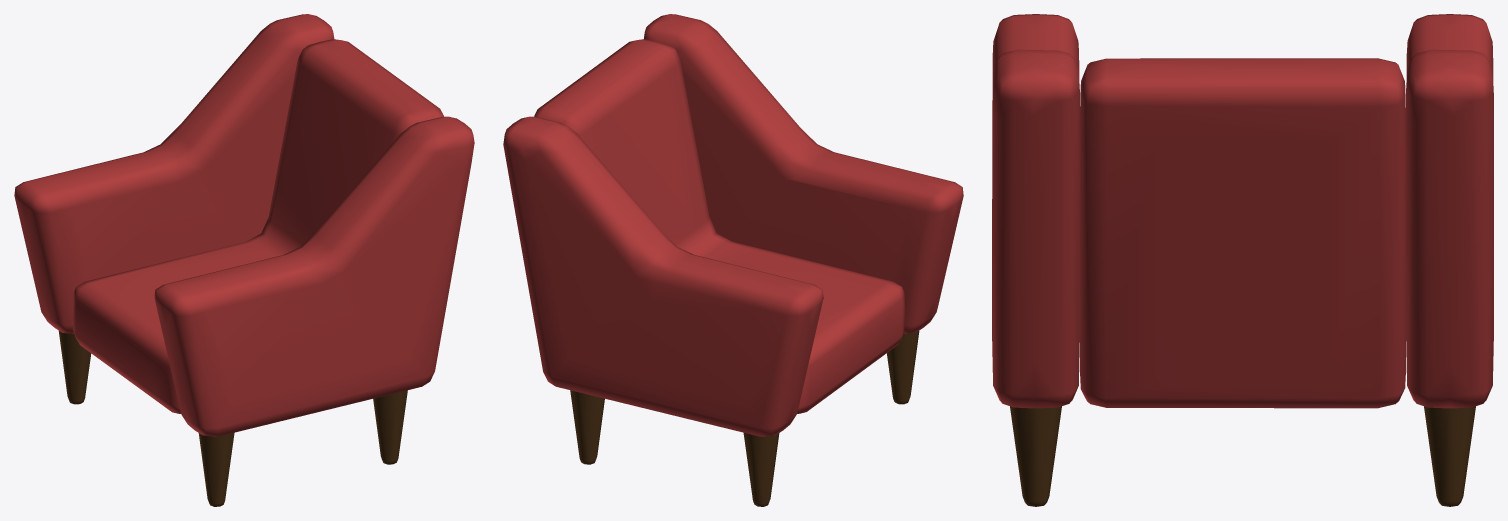
The model's file is armchair_01_red.fbx.
The picture shows the model from 3 angles, left to right: view 1: azimuth 30°, elevation 25°; view 2: azimuth 150°, elevation 25°; view 3: azimuth 270°, elevation 25°; orthographic projection. The views are drawn at different scales.
Visible parts, largest first — view 1: armchair_01_red; view 2: armchair_01_red; view 3: armchair_01_red.
Part boxes in pixels (x1,y1,x2,y2): armchair_01_red: (14,14,474,506); armchair_01_red: (503,14,963,506); armchair_01_red: (992,14,1493,506).
Bounding box in the file's own units: 101 × 104 × 98.01.
Materials: 2 (2 with a texture image).
